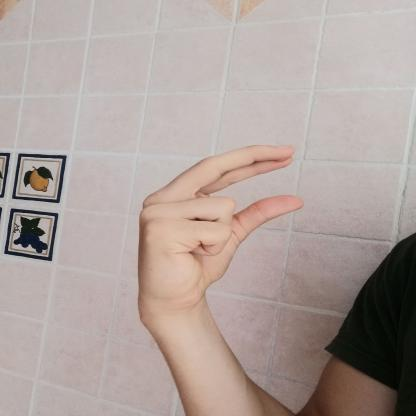DHELL: (128, 135, 315, 312)
